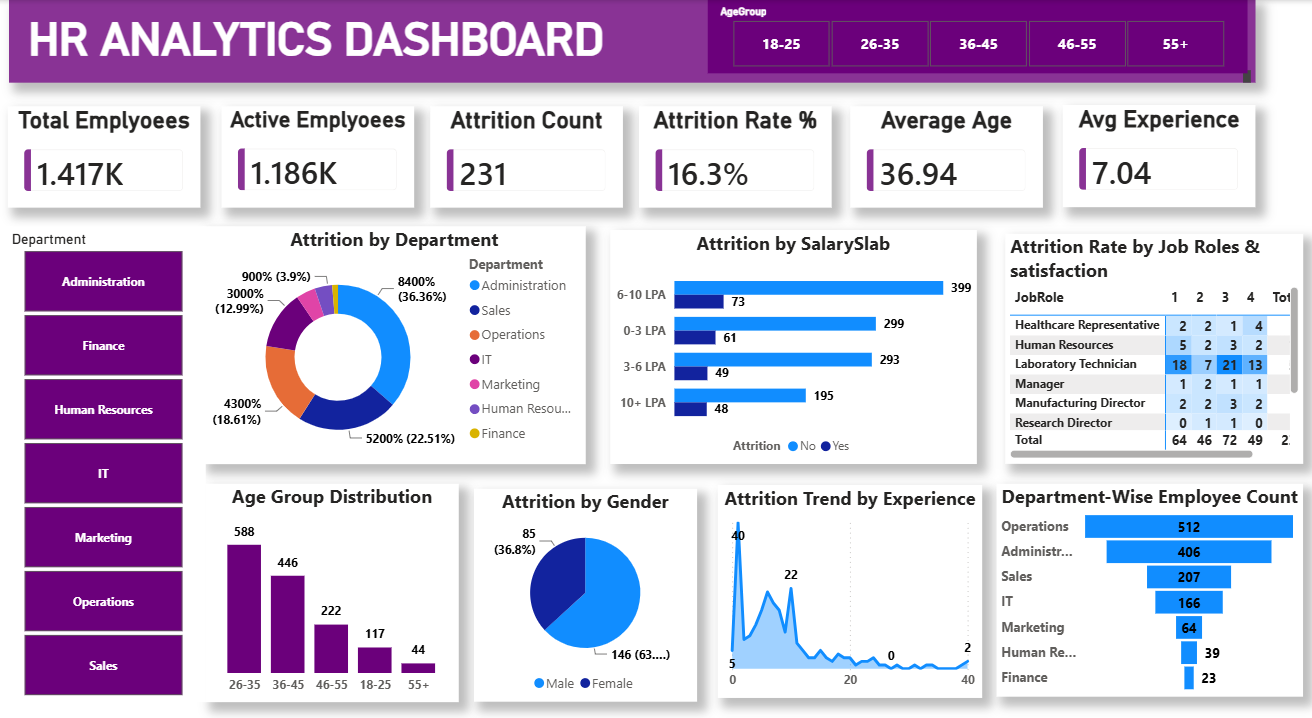

Layout of this report page (visuals, bound fields, positions):
{"tool":"powerbi","page":{"name":"Dashboard","canvas":[1352,742],"ordinal":0},"visuals":[{"type":"textbox","title":"HR ANALYTICS DASHBOARD","box":[10,0,1278.8,84.6],"z":0},{"type":"cardVisual","title":"Total Emplyoees","fields":{"Data":["CountNonNull(HR_Analytics-4.EmpID)"]},"box":[9.6,108.4,197.6,104.3],"z":1000},{"type":"cardVisual","title":"Active Emplyoees","fields":{"Data":["Sum(HR_Analytics-4.EmployeeCount)"]},"box":[227.8,108.4,197.6,104.3],"z":2000},{"type":"cardVisual","title":"Attrition Count","fields":{"Data":["Sum(HR_Analytics-4.Attrition count)"]},"box":[441.9,108.4,197.6,104.3],"z":3000},{"type":"cardVisual","title":"Attrition Rate %","fields":{"Data":["HR_Analytics-4.Attrition Rate %"]},"box":[655.9,108.4,197.6,104.3],"z":4000},{"type":"cardVisual","title":"Average Age","fields":{"Data":["Avg(HR_Analytics-4.Age)"]},"box":[872.7,108.4,197.6,104.3],"z":5000},{"type":"cardVisual","title":"Avg Experience","fields":{"Data":["Avg(HR_Analytics-4.YearsatCompany)"]},"box":[1091,108.2,197.8,104.5],"z":6000},{"type":"donutChart","title":" Attrition by Department","fields":{"Category":["HR_Analytics-4.Department"],"Y":["Sum(HR_Analytics-4.Attrition count)"]},"box":[208.6,231.4,392.9,244.3],"z":7000},{"type":"clusteredBarChart","title":"Attrition  by SalarySlab","fields":{"Category":["HR_Analytics-4.SalarySlab"],"Y":["CountNonNull(HR_Analytics-4.EmpID)"],"Series":["HR_Analytics-4.Attrition"]},"box":[627.1,235.7,375.7,240],"z":8000},{"type":"pivotTable","title":"Attrition Rate by Job Roles & satisfaction","fields":{"Rows":["HR_Analytics-4.JobRole"],"Values":["Sum(HR_Analytics-4.Attrition count)"],"Columns":["HR_Analytics-4.JobSatisfaction"]},"box":[1031.4,240,305.7,235.7],"z":9000},{"type":"columnChart","title":"Age Group Distribution","fields":{"Y":["Sum(HR_Analytics-4.EmployeeCount)"],"Category":["HR_Analytics-4.AgeGroup"]},"box":[211.4,495.7,260,224.3],"z":10000},{"type":"pieChart","title":"Attrition  by Gender","fields":{"Category":["HR_Analytics-4.Gender"],"Y":["Sum(HR_Analytics-4.Attrition count)"]},"box":[487.1,501.4,228.6,218.6],"z":11000},{"type":"areaChart","title":"Attrition Trend by Experience","fields":{"Category":["HR_Analytics-4.TotalExperience(Years)"],"Y2":["Sum(HR_Analytics-4.Attrition count)"]},"box":[737.1,497.1,271.4,218.6],"z":12000},{"type":"slicer","title":"Department-Wise Employee Count","fields":{"Values":["HR_Analytics-4.Department"]},"box":[0,232,212,488],"z":13000},{"type":"slicer","title":"Department-Wise Employee Count","fields":{"Values":["HR_Analytics-4.AgeGroup"]},"box":[726.2,0,553.8,75],"z":14000},{"type":"funnel","title":"Department-Wise Employee Count","fields":{"Category":["HR_Analytics-4.Department"],"Y":["CountNonNull(HR_Analytics-4.EmpID)"]},"box":[1022.9,495.7,314.3,218.6],"z":15000}]}

Visuals, with their boxes in screenshot pixels (x1, y1, x2, y2), scaled from the page's 1352x742 canvas onto the 1312x718 screenshot:
"HR ANALYTICS DASHBOARD" textbox: crop(10, 0, 1251, 82)
"Total Emplyoees" cardVisual: crop(9, 105, 201, 206)
"Active Emplyoees" cardVisual: crop(221, 105, 413, 206)
"Attrition Count" cardVisual: crop(429, 105, 621, 206)
"Attrition Rate %" cardVisual: crop(636, 105, 828, 206)
"Average Age" cardVisual: crop(847, 105, 1039, 206)
"Avg Experience" cardVisual: crop(1059, 105, 1251, 206)
" Attrition by Department" donutChart: crop(202, 224, 584, 460)
"Attrition  by SalarySlab" clusteredBarChart: crop(609, 228, 973, 460)
"Attrition Rate by Job Roles & satisfaction" pivotTable: crop(1001, 232, 1298, 460)
"Age Group Distribution" columnChart: crop(205, 480, 457, 697)
"Attrition  by Gender" pieChart: crop(473, 485, 695, 697)
"Attrition Trend by Experience" areaChart: crop(715, 481, 979, 693)
"Department-Wise Employee Count" slicer: crop(0, 224, 206, 697)
"Department-Wise Employee Count" slicer: crop(705, 0, 1242, 73)
"Department-Wise Employee Count" funnel: crop(993, 480, 1298, 691)
